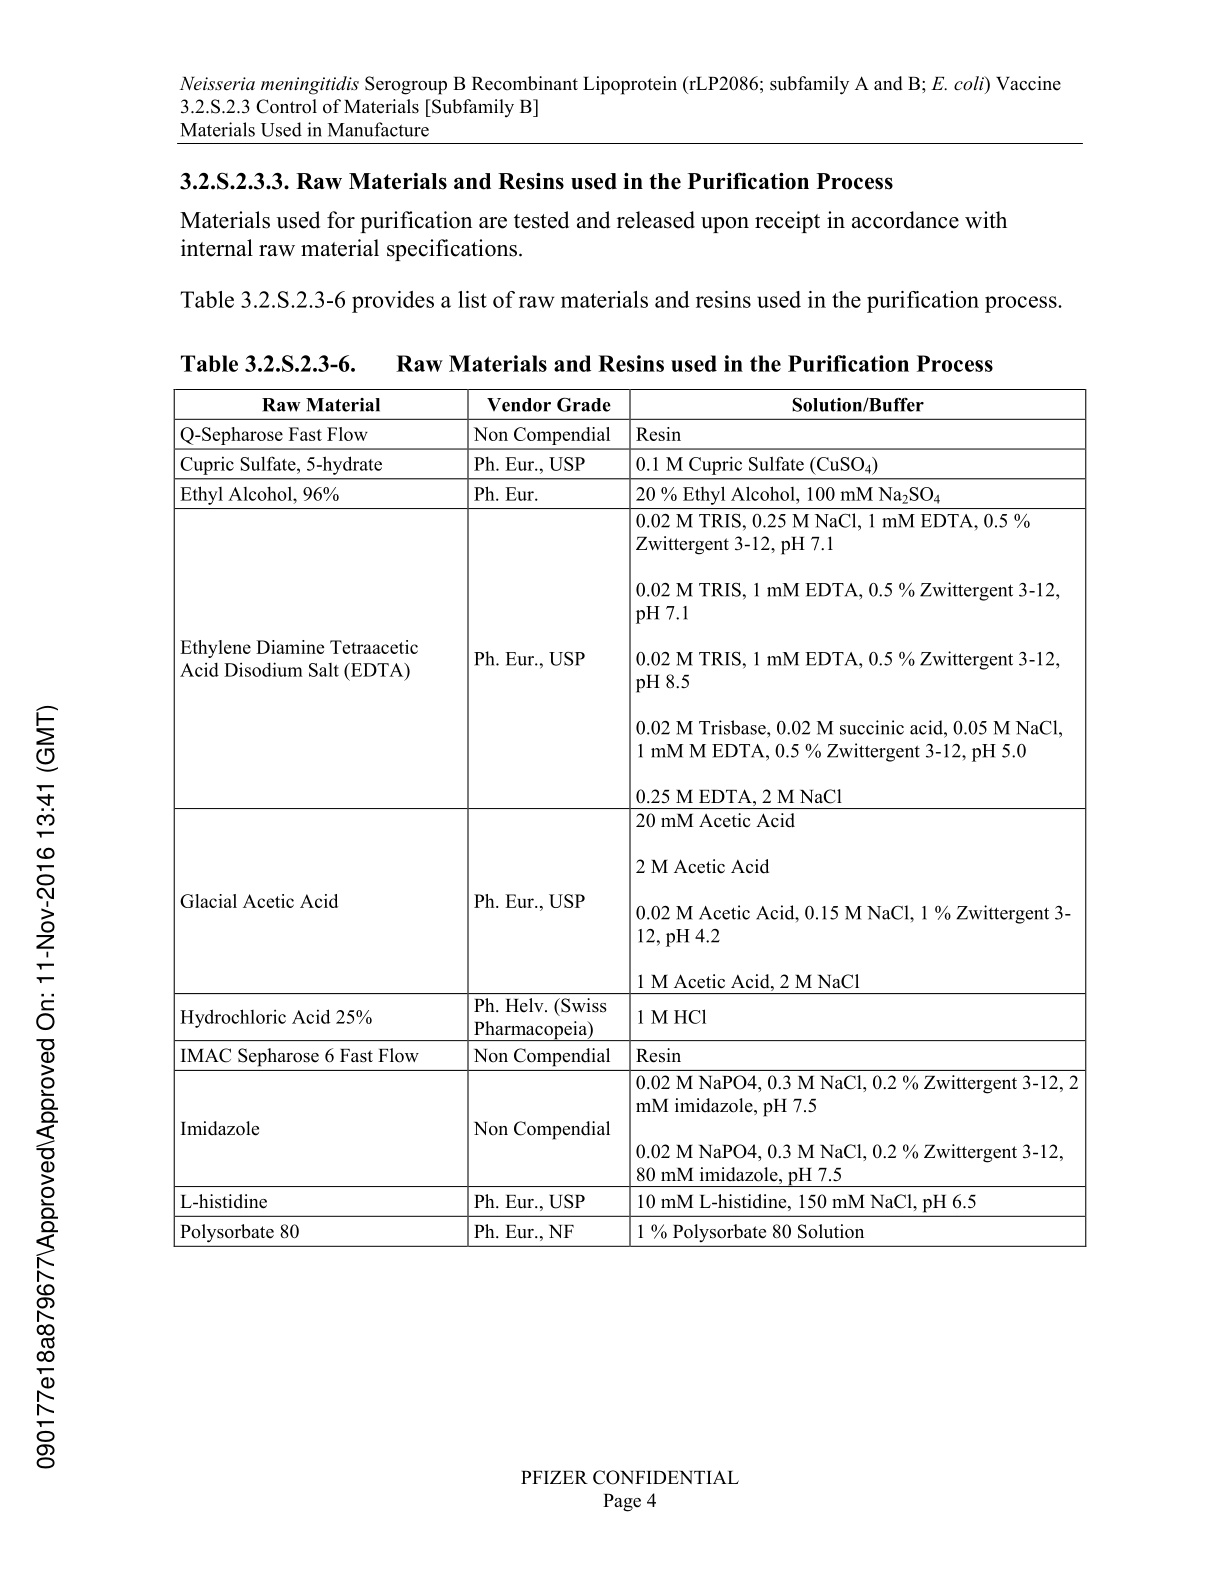full_lined: (174, 390, 1086, 1247)
